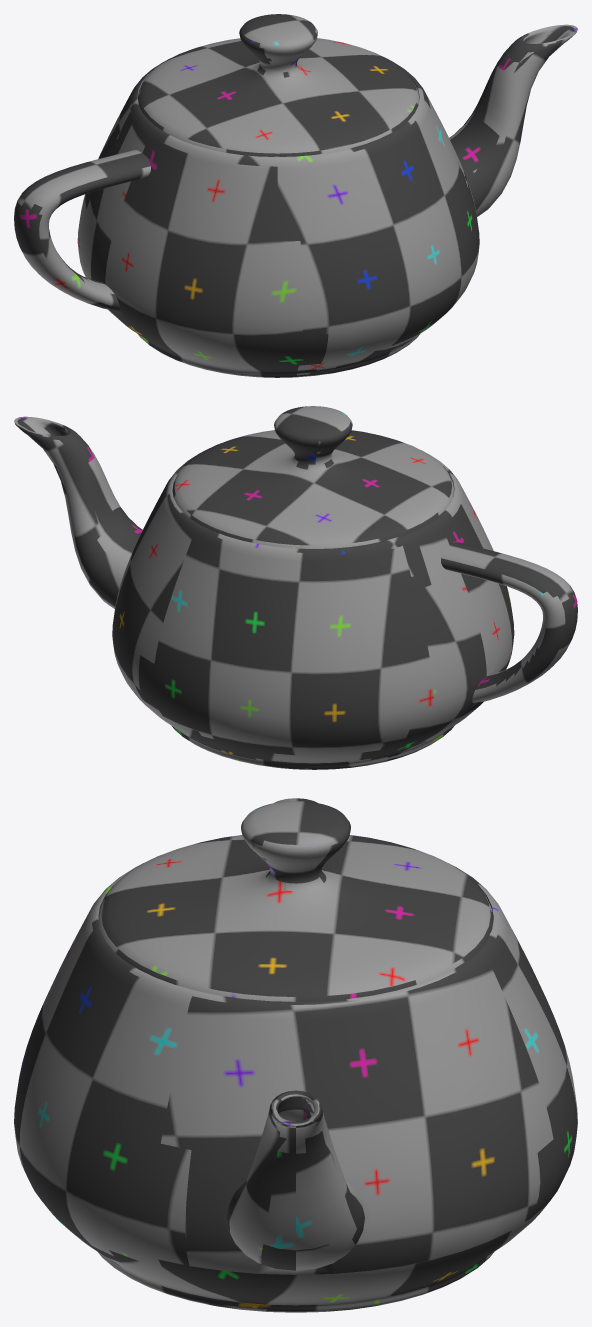
Rendered from teapot-binary.glb.
3 renders of one model, top to bottom at view 1: azimuth 30°, elevation 25°; view 2: azimuth 150°, elevation 25°; view 3: azimuth 270°, elevation 25°, orthographic. The views are drawn at different scales.
Visible parts, largest first — view 1: Object_3, Object_2; view 2: Object_3, Object_2; view 3: Object_3, Object_2.
Part boxes in pixels (x1,y1,x2,y2): Object_3: (14,24,577,377); Object_2: (138,14,419,156); Object_3: (14,416,577,769); Object_2: (172,406,453,548); Object_3: (14,798,577,1312); Object_2: (98,801,493,1001).
Size of the model in its own units: 3.85 by 1.98 by 2.4.
Materials: 1 (1 with a texture image).
